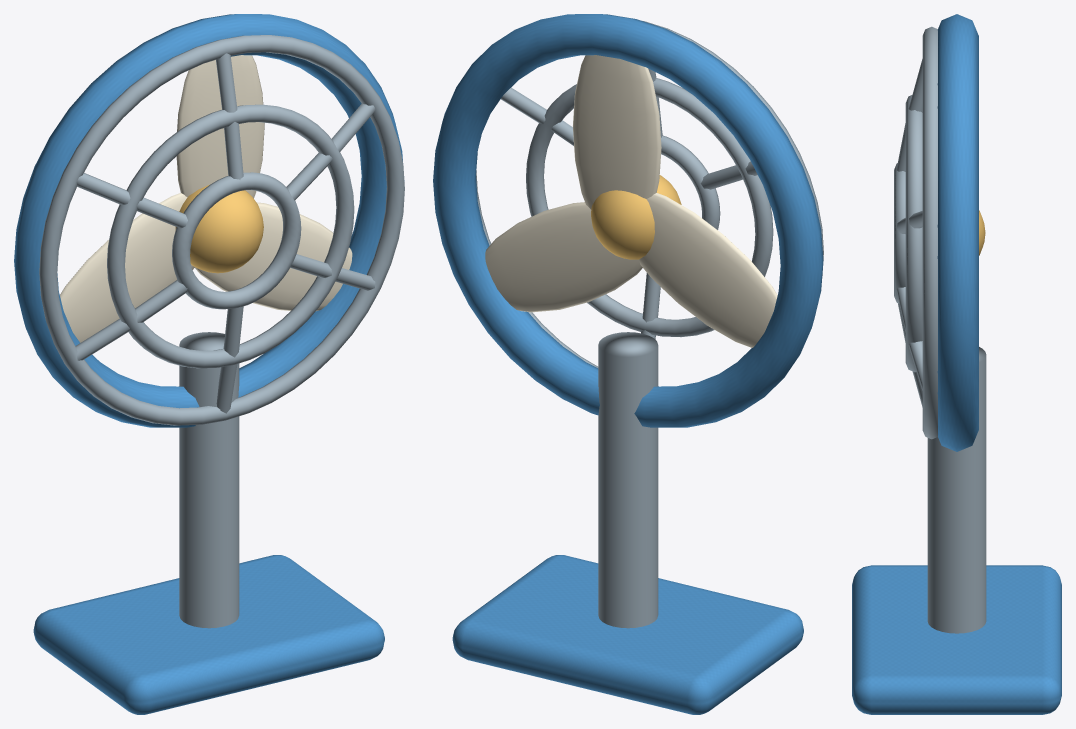
File: FAN.glb
3 views of the same model, side by side, from view 1: azimuth 30°, elevation 25°; view 2: azimuth 150°, elevation 25°; view 3: azimuth 270°, elevation 25° (orthographic).
Parts seen in each view (by area): view 1: FAN; view 2: FAN; view 3: FAN.
Part boxes in pixels (x1,y1,x2,y2): FAN: (14, 14, 404, 714); FAN: (433, 14, 823, 714); FAN: (852, 14, 1061, 714).
Size of the model in its own units: 0.522 by 0.821 by 0.25.
4 materials, 1 textured.
